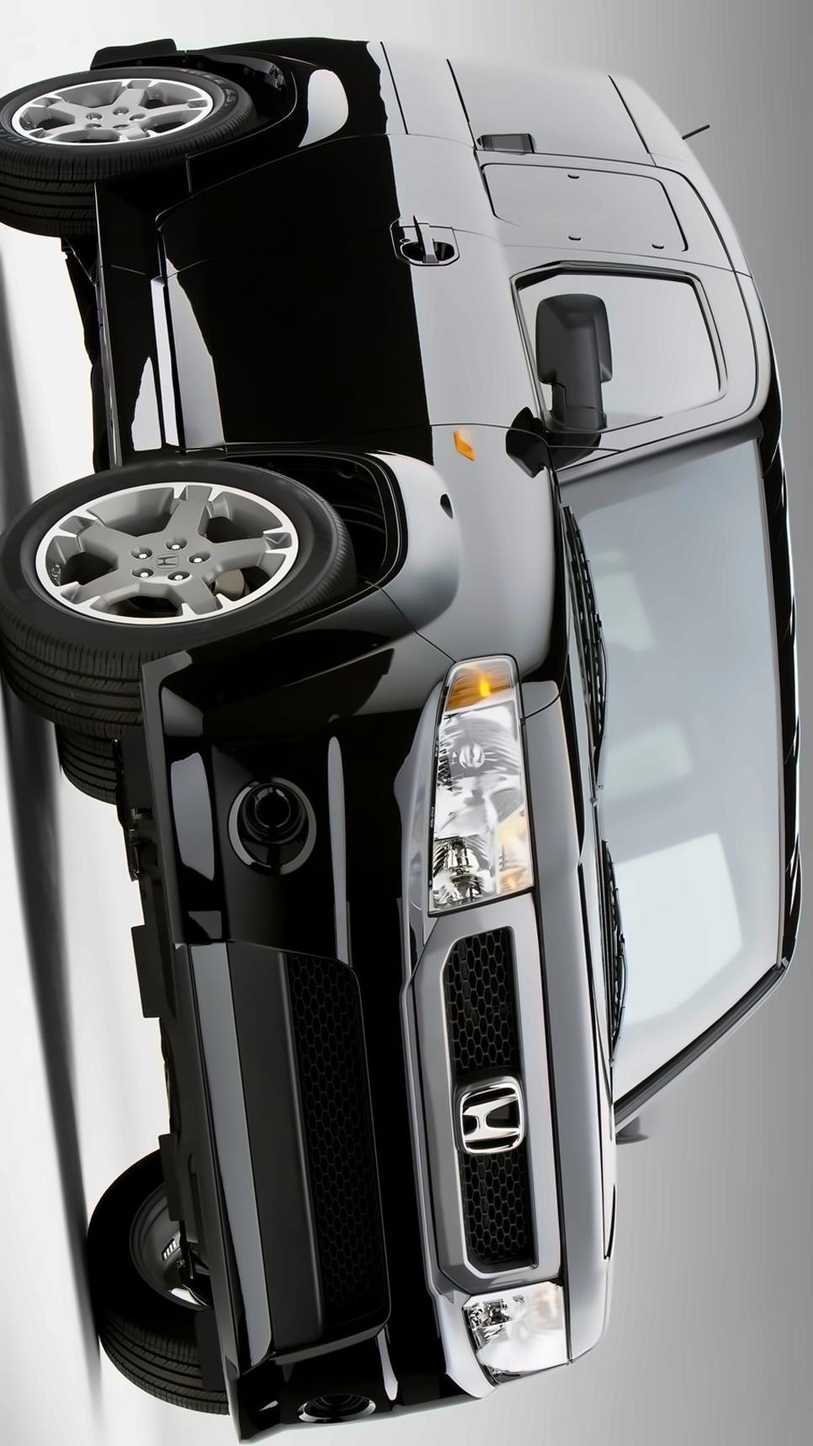Fender - -F-R-: (101, 413, 579, 704), (155, 228, 775, 444)
Fender - -R-R-: (247, 31, 456, 128)
Front bumper: (118, 640, 441, 1443), (505, 688, 632, 1364)
Headlight - -L-: (455, 1274, 586, 1400)
Headlight - -R-: (407, 640, 546, 926)
Passenger-s door - -R-R-: (157, 121, 745, 230)
Rear bumper: (82, 20, 250, 107)
Side bumper - -R-: (79, 141, 189, 482)
